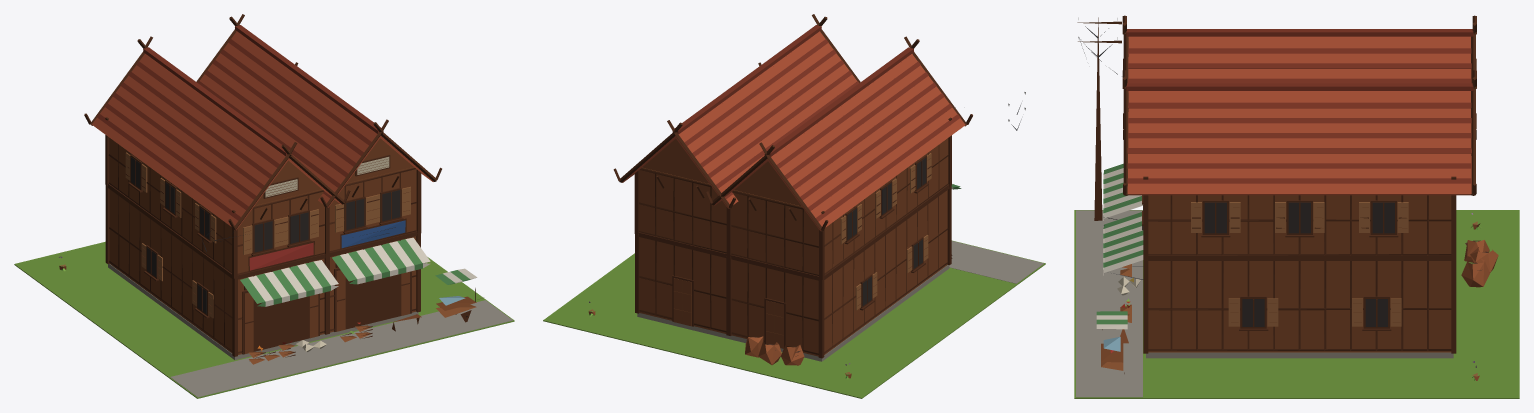
The model's file is shop_2.glb.
The picture shows the model from 3 angles, left to right: view 1: azimuth 30°, elevation 25°; view 2: azimuth 150°, elevation 25°; view 3: azimuth 270°, elevation 25°; orthographic projection. The views are drawn at different scales.
Parts seen in each view (by area): view 1: body, windows; view 2: body, windows; view 3: body, windows.
Boxes of the visible parts, x1,y1,x2,y2 form: body: (14, 14, 514, 398); windows: (131, 157, 400, 314); body: (543, 14, 1045, 398); windows: (847, 157, 926, 305); body: (1074, 15, 1519, 398); windows: (1129, 202, 1394, 326).
Size of the model in its own units: 15.9 by 10.41 by 15.9.
